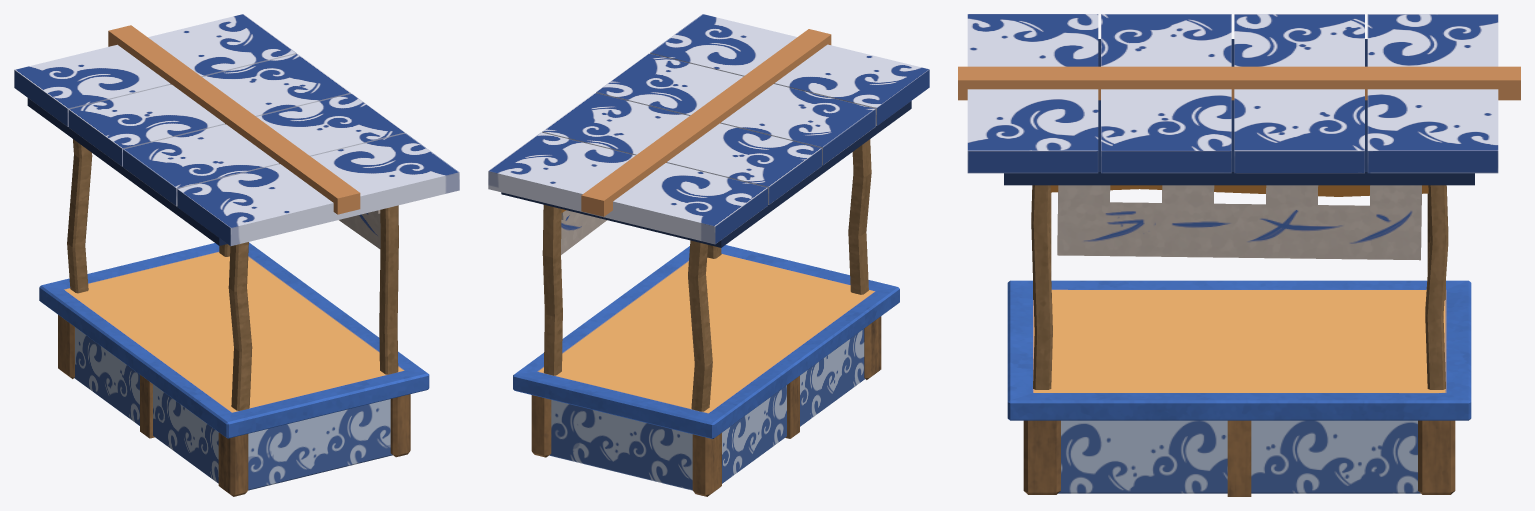
The model's file is Booth 2-2.fbx.
3 renders of one model, left to right at view 1: azimuth 30°, elevation 25°; view 2: azimuth 150°, elevation 25°; view 3: azimuth 270°, elevation 25°, orthographic. The views are drawn at different scales.
Parts seen in each view (by area): view 1: Cube, Cube.011, Cube.009, Cube.013, Cube.007, Cube.010, Plane, Cube.008; view 2: Cube, Cube.011, Cube.009, Cube.013, Cube.007, Cube.010, Plane, Cube.008; view 3: Cube, Cube.011, Plane, Cube.013, Cube.009, Cube.010, Cube.007, Cube.008, Cube.012.
Boxes of the visible parts, <box> form: Cube: <box>39,242,429,490</box>; Cube.011: <box>14,14,459,246</box>; Cube.009: <box>67,139,398,410</box>; Cube.013: <box>108,25,360,214</box>; Cube.007: <box>58,315,410,496</box>; Cube.010: <box>27,98,226,245</box>; Plane: <box>339,210,380,248</box>; Cube.008: <box>140,375,154,438</box>; Cube: <box>513,245,899,490</box>; Cube.011: <box>488,14,929,244</box>; Cube.009: <box>542,139,871,411</box>; Cube.013: <box>581,29,831,216</box>; Cube.007: <box>531,316,881,496</box>; Cube.010: <box>501,101,911,247</box>; Plane: <box>561,210,606,254</box>; Cube.008: <box>785,376,799,438</box>; Cube: <box>1007,280,1471,493</box>; Cube.011: <box>967,14,1498,173</box>; Plane: <box>1057,185,1421,260</box>; Cube.013: <box>958,66,1520,100</box>; Cube.009: <box>1031,185,1448,389</box>; Cube.010: <box>1004,39,1474,185</box>; Cube.007: <box>1023,420,1455,494</box>; Cube.008: <box>1227,420,1251,496</box>; Cube.012: <box>1050,185,1428,196</box>.
Size of the model in its own units: 946 by 1190 by 1641.
1 material, 1 textured.
